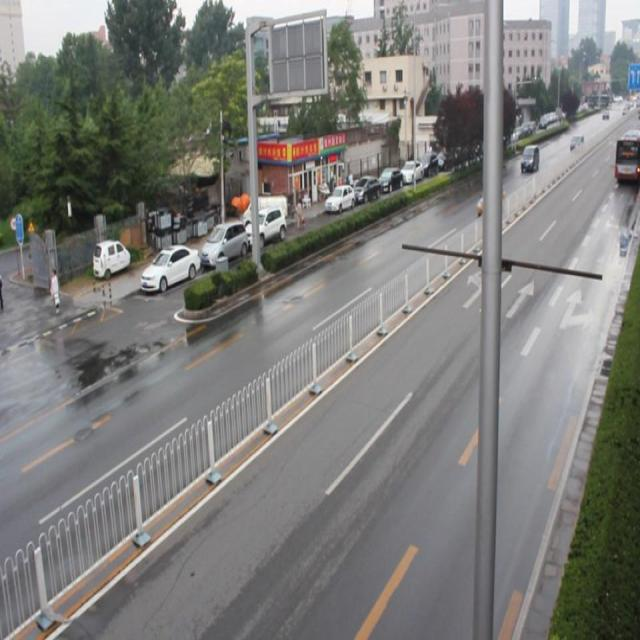car: (474, 184, 505, 218)
